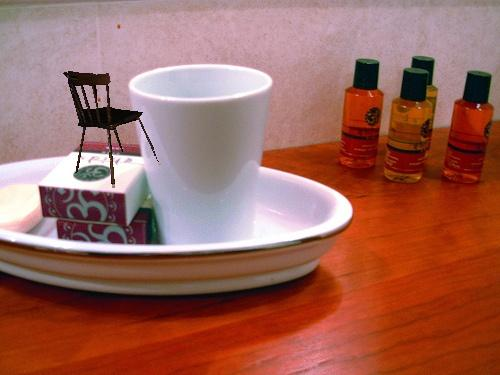tampered: (64, 72, 161, 188)
